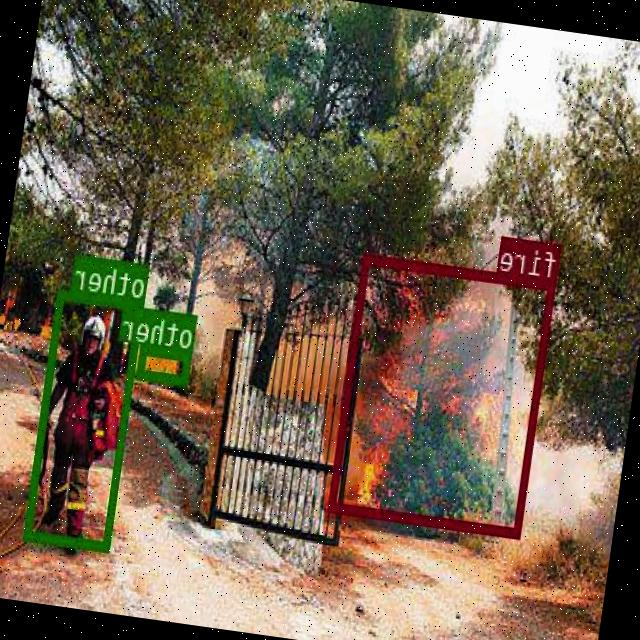fire: (330, 254, 558, 536)
